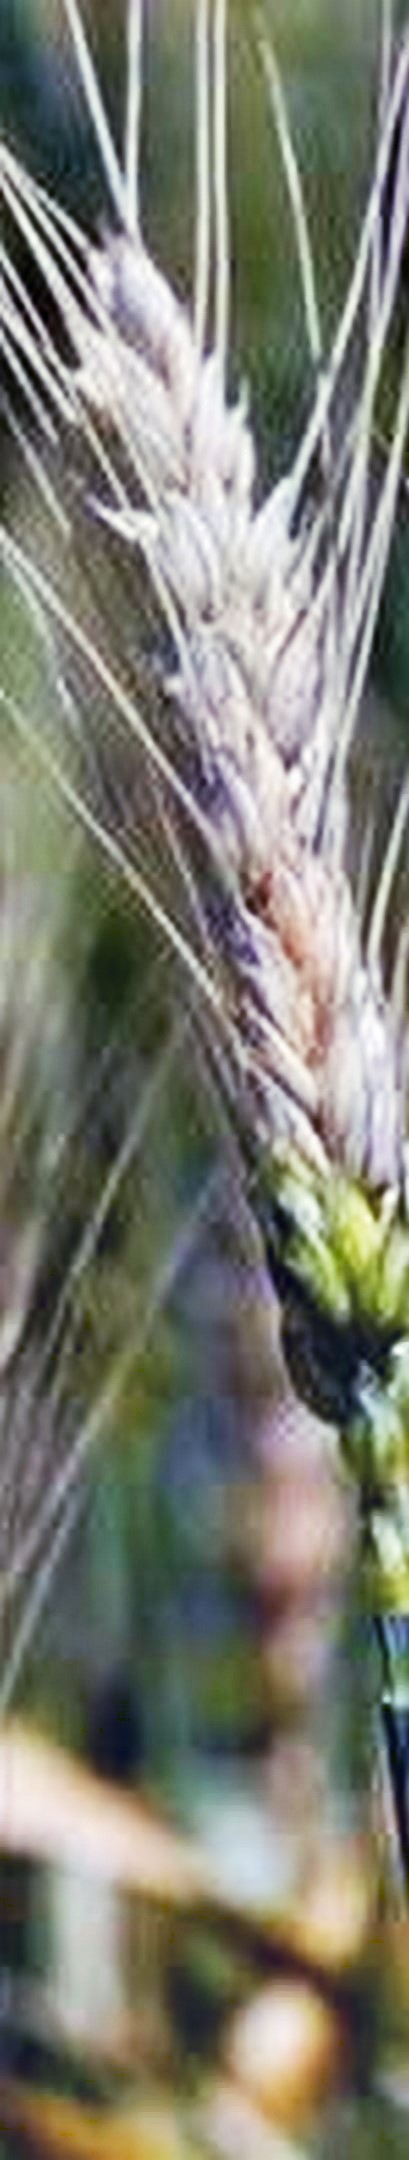Wheat scab: (41, 238, 409, 1479)
